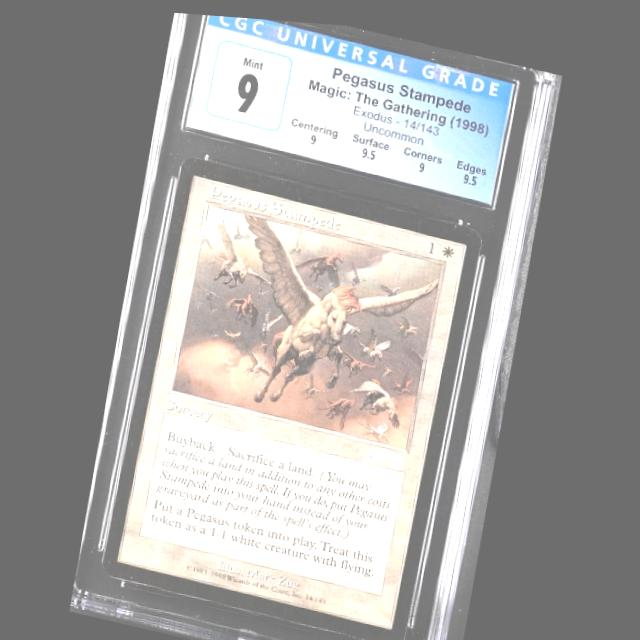card: (101, 149, 484, 640)
cgc_label_old: (185, 12, 514, 198)
cgc_slab: (71, 10, 555, 640)
